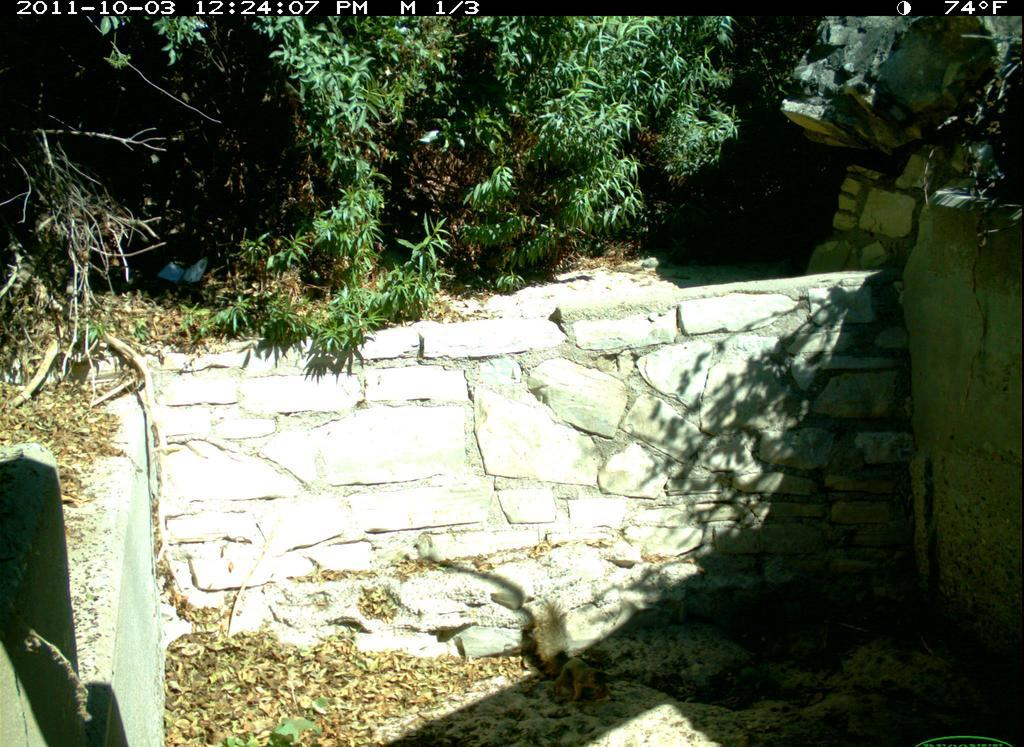squirrel: (520, 587, 630, 711)
